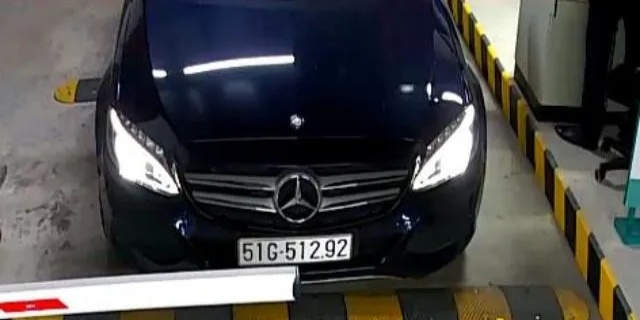bien_so: (239, 235, 352, 261)
